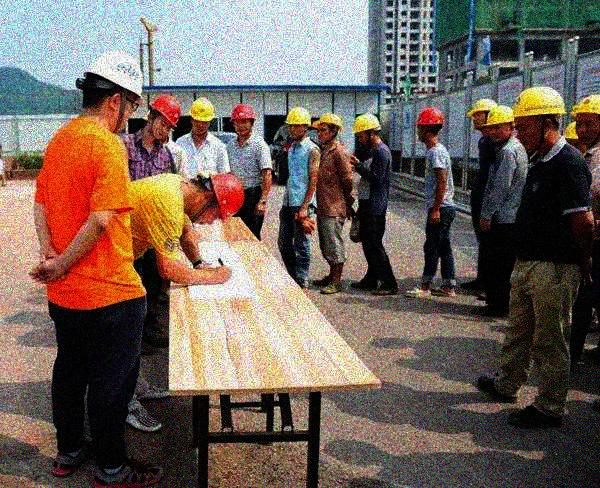helmet: (83, 50, 144, 130), (511, 85, 567, 150), (182, 171, 246, 226), (146, 94, 181, 140), (572, 93, 600, 146), (186, 96, 216, 134), (413, 105, 444, 140), (311, 111, 344, 142), (351, 113, 382, 145), (486, 106, 515, 140), (464, 97, 495, 127), (284, 105, 311, 139), (230, 102, 256, 137)
